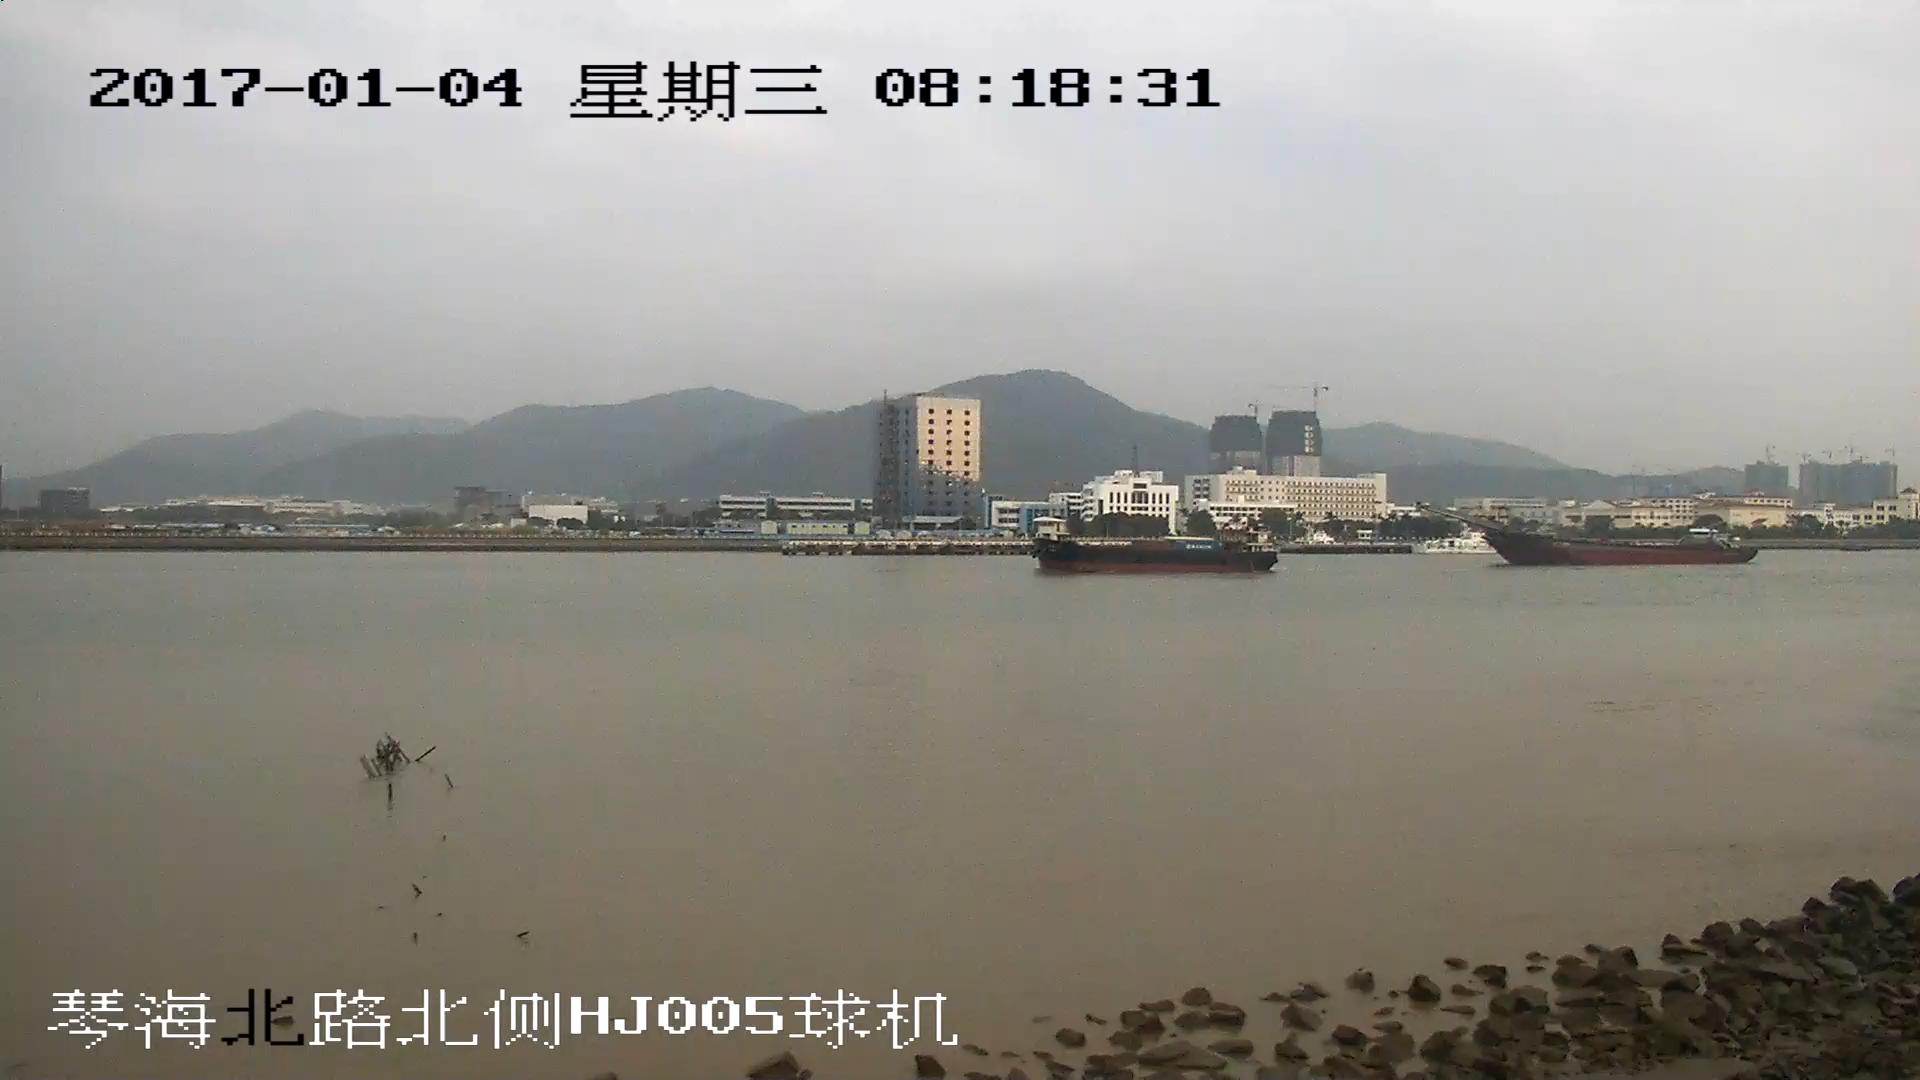bulk cargo carrier: (1421, 503, 1752, 566)
container ship: (1038, 521, 1273, 572)
